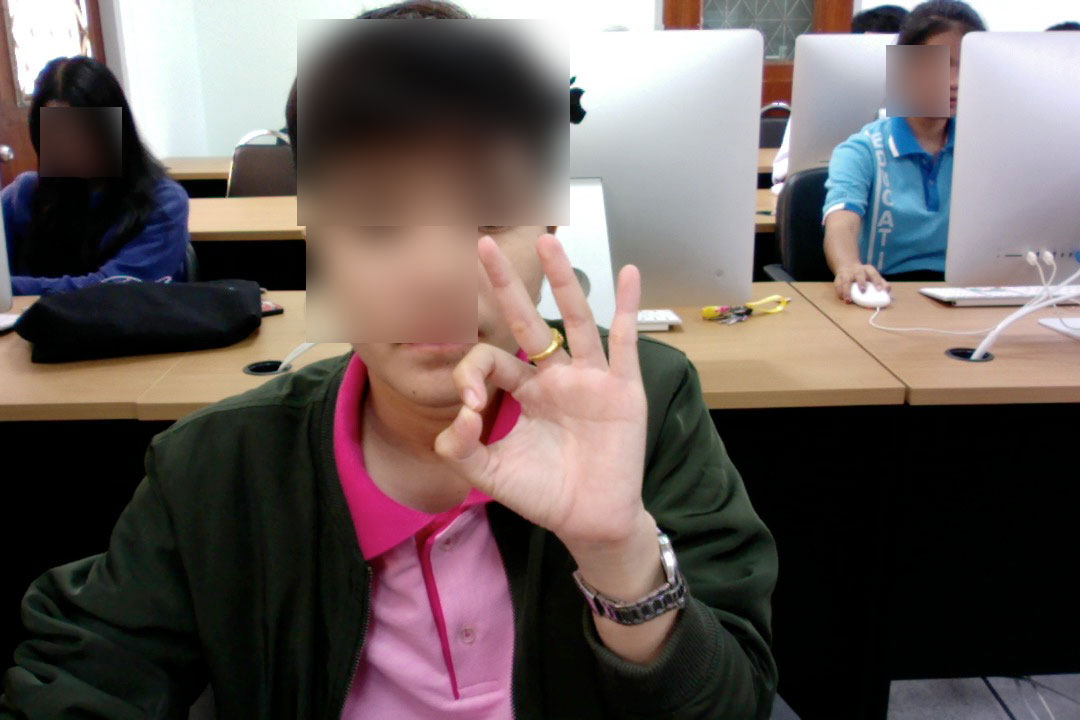for: (428, 221, 670, 560)
